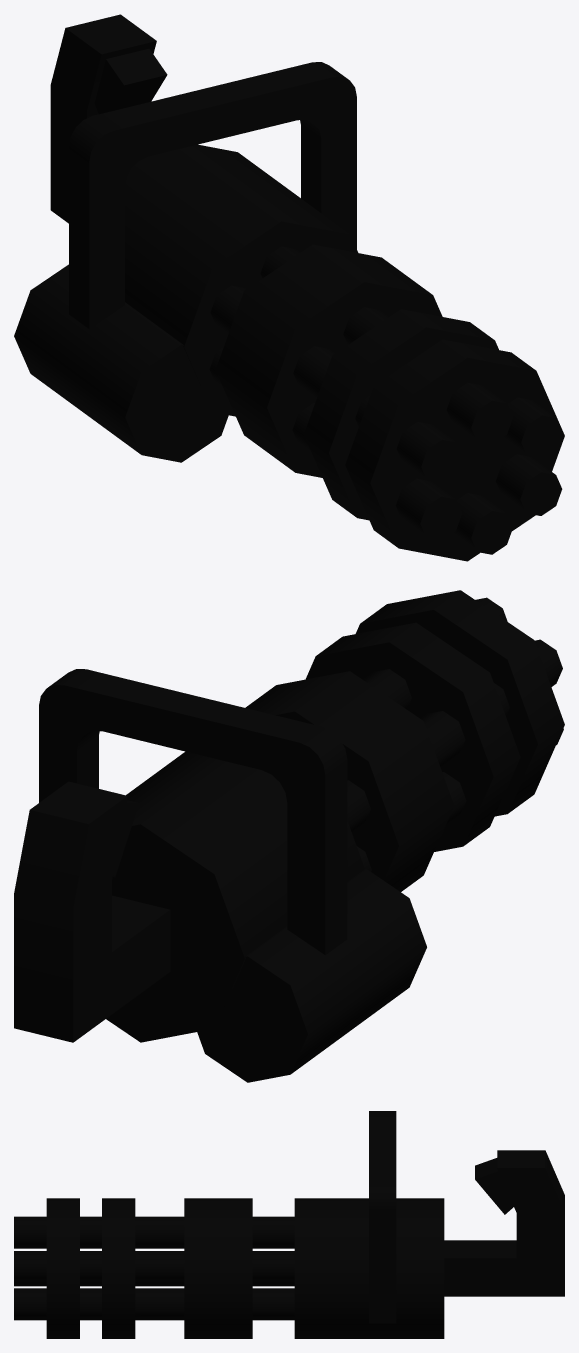
The model's file is Minigun.fbx.
3 views of the same model, one above another, from view 1: azimuth 30°, elevation 25°; view 2: azimuth 150°, elevation 25°; view 3: azimuth 270°, elevation 25° (orthographic). The views are drawn at different scales.
Visible parts, largest first — view 1: Minigun; view 2: Minigun; view 3: Minigun.
Part boxes in pixels (x1,y1,x2,y2): Minigun: [14, 14, 564, 561]; Minigun: [14, 590, 564, 1082]; Minigun: [14, 1111, 564, 1338].
Size of the model in its own units: 192 by 189 by 481.
